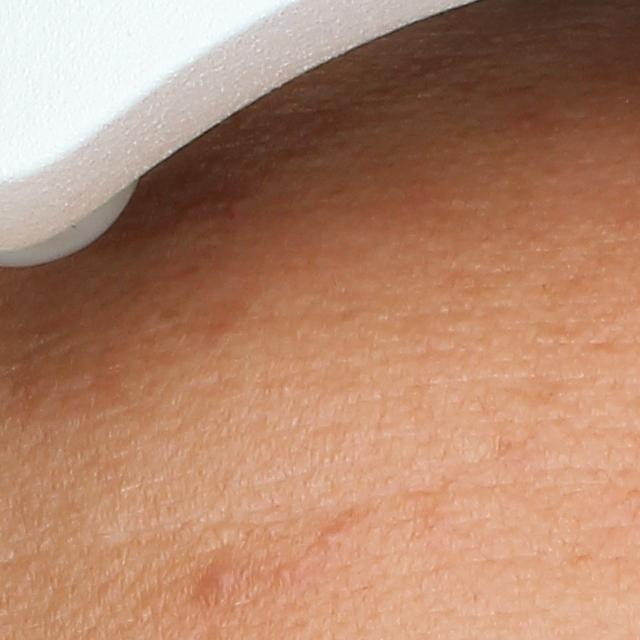comedo: (314, 522, 354, 550), (276, 563, 293, 582)
papule: (193, 551, 250, 604)
